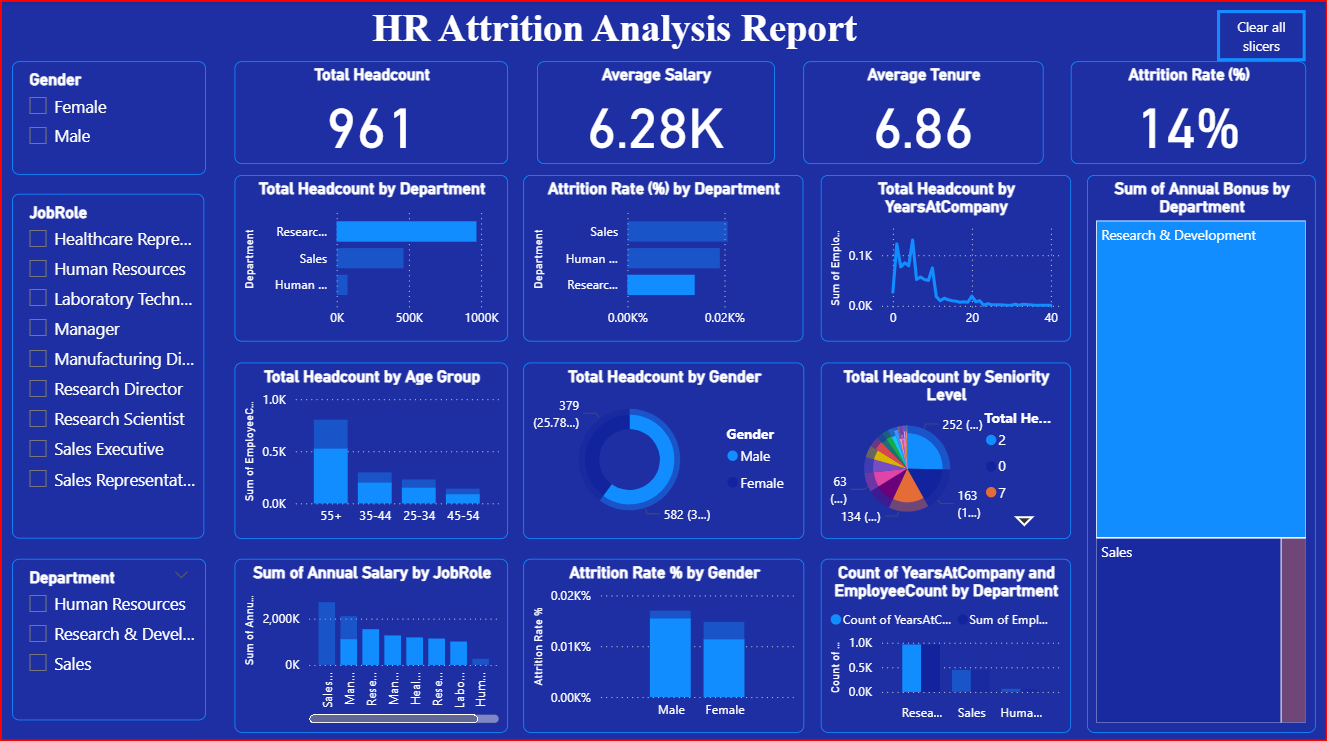

The dashboard page shown, as its layout file describes it:
{"tool":"powerbi","page":{"name":"Page 1","canvas":[1280,720],"ordinal":0},"visuals":[{"type":"textbox","box":[9.6,0,1259.7,59],"z":0},{"type":"slicer","fields":{"Values":["Sheet1.Gender"]},"box":[9.7,59.1,187,109.8],"z":1000},{"type":"slicer","fields":{"Values":["Sheet1.JobRole"]},"box":[9.7,187,185.8,333],"z":2000},{"type":"slicer","fields":{"Values":["Sheet1.Department"]},"box":[9.7,539.3,187,155.6],"z":3000},{"type":"card","title":"Total Headcount","fields":{"Values":["Sum(Sheet1.EmployeeCount)"]},"box":[224.4,59.1,264.2,98.9],"z":4000},{"type":"card","title":"Average Salary","fields":{"Values":["Avg(Sheet1.Salary)"]},"box":[516.4,59.1,229.2,98.9],"z":5000},{"type":"card","title":"Average Tenure","fields":{"Values":["Avg(Sheet1.YearsAtCompany)"]},"box":[773.3,59.1,231.6,98.9],"z":6000},{"type":"card","title":"Attrition Rate (%)","fields":{"Values":["Sheet1.Attrition Rate %"]},"box":[1031.5,59.1,226.8,98.9],"z":7000},{"type":"barChart","title":"Total Headcount by Department","fields":{"Category":["Sheet1.Department"],"Y":["Sum(Sheet1.EmployeeNumber)"]},"box":[224.4,168.9,264.2,160.5],"z":8000},{"type":"columnChart","title":"Total Headcount by Age Group","fields":{"Y":["Sum(Sheet1.EmployeeCount)"],"Category":["Sheet1.Age (bins) (groups)"]},"box":[224.4,349.9,264.2,170.1],"z":9000},{"type":"donutChart","title":"Total Headcount by Gender","fields":{"Category":["Sheet1.Gender"],"Y":["Sum(Sheet1.EmployeeCount)"]},"box":[503.1,349.9,271.4,170.1],"z":10000},{"type":"pieChart","title":"Total Headcount by Seniority Level","fields":{"Y":["Sum(Sheet1.EmployeeCount)"],"Category":["Sheet1.YearsInCurrentRole"]},"box":[790.2,349.9,241.3,170.1],"z":11000},{"type":"clusteredBarChart","title":"Attrition Rate (%) by Department","fields":{"Category":["Sheet1.Department"],"Y":["Sheet1.Attrition Rate %"]},"box":[503.1,168.9,270.2,160.5],"z":12000},{"type":"columnChart","fields":{"Category":["Sheet1.Gender"],"Y":["Sheet1.Attrition Rate %"]},"box":[503.1,539.3,271.4,167.7],"z":13000},{"type":"clusteredColumnChart","fields":{"Y":["Sum(Sheet1.Annual Salary)"],"Category":["Sheet1.JobRole"]},"box":[224.4,539.3,264.2,167.7],"z":14000},{"type":"clusteredColumnChart","title":"Count of YearsAtCompany and EmployeeCount by Department","fields":{"Y":["CountNonNull(Sheet1.YearsAtCompany)","Sum(Sheet1.EmployeeCount)"],"Category":["Sheet1.Department"]},"box":[790.2,539.3,241.3,167.7],"z":15000},{"type":"treemap","title":"Sum of Annual Bonus by Department","fields":{"Values":["Sum(Sheet1.Annual Salary)"],"Group":["Sheet1.Department"]},"box":[1047.2,168.9,220.8,538.1],"z":16000},{"type":"lineChart","title":"Total Headcount by YearsAtCompany","fields":{"Category":["Sheet1.YearsAtCompany"],"Y":["Sum(Sheet1.EmployeeCount)"]},"box":[790.2,168.9,241.3,160.5],"z":17000}]}

Visuals, with their boxes in screenshot pixels (x1, y1, x2, y2), scaled from the page's 1280x720 canvas onto the 1327x741 screenshot:
textbox: BBox(10, 0, 1316, 61)
slicer - Sheet1.Gender: BBox(10, 61, 204, 174)
slicer - Sheet1.JobRole: BBox(10, 192, 203, 535)
slicer - Sheet1.Department: BBox(10, 555, 204, 715)
"Total Headcount" card: BBox(233, 61, 507, 163)
"Average Salary" card: BBox(535, 61, 773, 163)
"Average Tenure" card: BBox(802, 61, 1042, 163)
"Attrition Rate (%)" card: BBox(1069, 61, 1305, 163)
"Total Headcount by Department" barChart: BBox(233, 174, 507, 339)
"Total Headcount by Age Group" columnChart: BBox(233, 360, 507, 535)
"Total Headcount by Gender" donutChart: BBox(522, 360, 803, 535)
"Total Headcount by Seniority Level" pieChart: BBox(819, 360, 1069, 535)
"Attrition Rate (%) by Department" clusteredBarChart: BBox(522, 174, 802, 339)
columnChart - Sheet1.Gender x Sheet1.Attrition Rate %: BBox(522, 555, 803, 728)
clusteredColumnChart - Sum(Sheet1.Annual Salary) x Sheet1.JobRole: BBox(233, 555, 507, 728)
"Count of YearsAtCompany and EmployeeCount by Department" clusteredColumnChart: BBox(819, 555, 1069, 728)
"Sum of Annual Bonus by Department" treemap: BBox(1086, 174, 1315, 728)
"Total Headcount by YearsAtCompany" lineChart: BBox(819, 174, 1069, 339)
